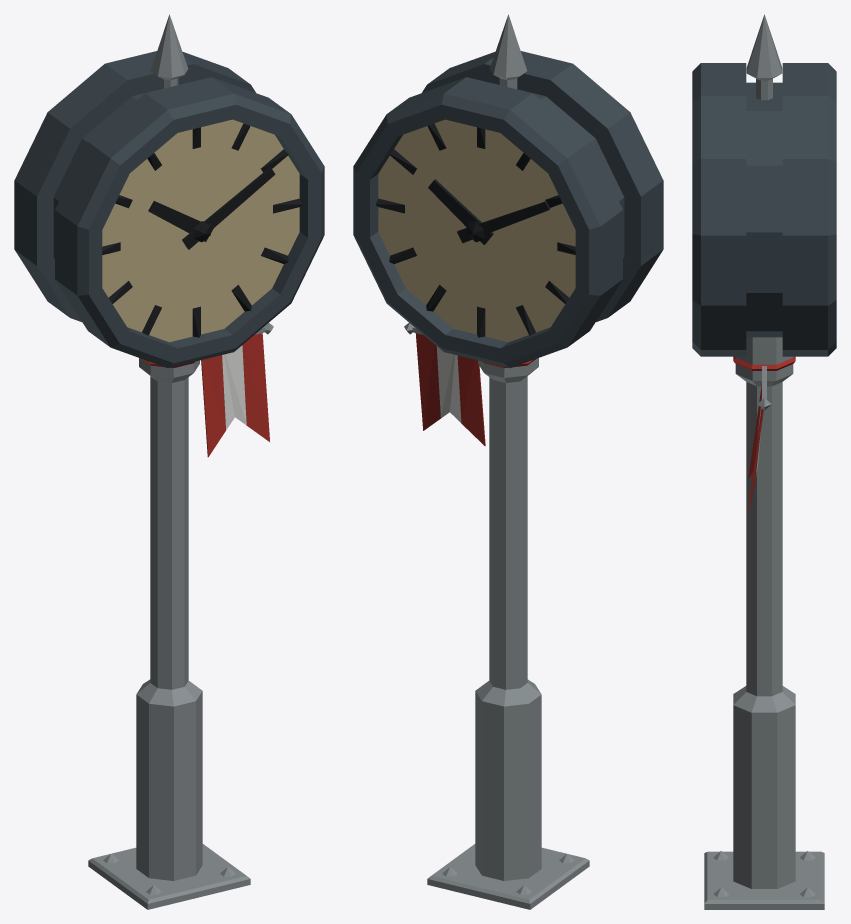
Rendered from stadium-clock-post-4d1ce8.glb.
3 views of the same model, side by side, from view 1: azimuth 30°, elevation 25°; view 2: azimuth 150°, elevation 25°; view 3: azimuth 270°, elevation 25° (orthographic).
Parts seen in each view (by area): view 1: stadium-clock-post-body, pennant-cloth-r-mesh, hand-minute-mesh, hand-hour-mesh; view 2: stadium-clock-post-body, pennant-cloth-r-mesh, hand-minute-back-mesh, hand-hour-back-mesh; view 3: stadium-clock-post-body, pennant-fittings, pennant-cloth-r-mesh.
Boxes of the visible parts, x1=… form: stadium-clock-post-body: x1=14, y1=14, x2=324, y2=909; pennant-cloth-r-mesh: x1=201, y1=333, x2=269, y2=457; hand-minute-mesh: x1=182, y1=167, x2=275, y2=249; hand-hour-mesh: x1=148, y1=201, x2=213, y2=241; stadium-clock-post-body: x1=353, y1=14, x2=663, y2=909; pennant-cloth-r-mesh: x1=415, y1=333, x2=485, y2=445; hand-minute-back-mesh: x1=457, y1=201, x2=550, y2=243; hand-hour-back-mesh: x1=428, y1=179, x2=493, y2=244; stadium-clock-post-body: x1=692, y1=14, x2=836, y2=909; pennant-fittings: x1=733, y1=356, x2=795, y2=410; pennant-cloth-r-mesh: x1=748, y1=384, x2=763, y2=509.
Size of the model in its own units: 1.2 by 4 by 0.6.
